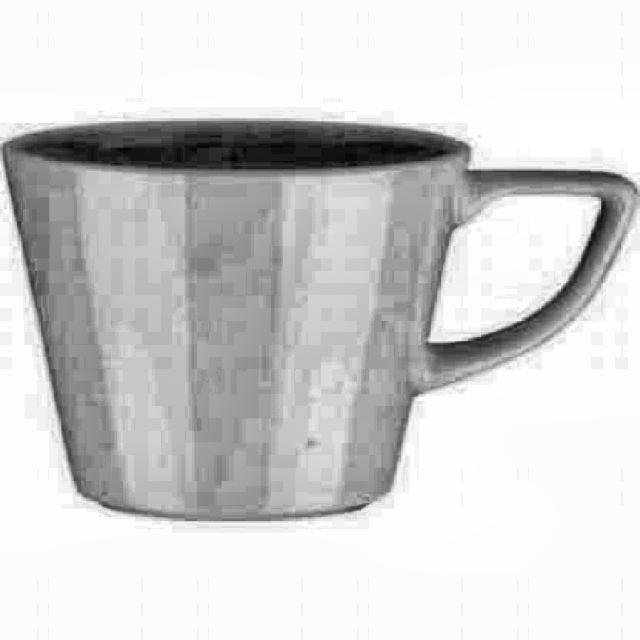Mug: (2, 114, 638, 520)
